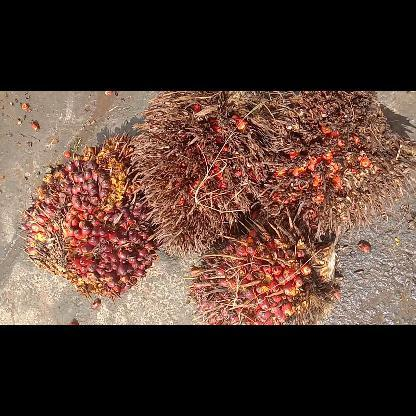TBS masak: (18, 130, 162, 304), (184, 207, 342, 324)
Terlalu masak: (125, 91, 291, 256), (252, 91, 416, 245)
